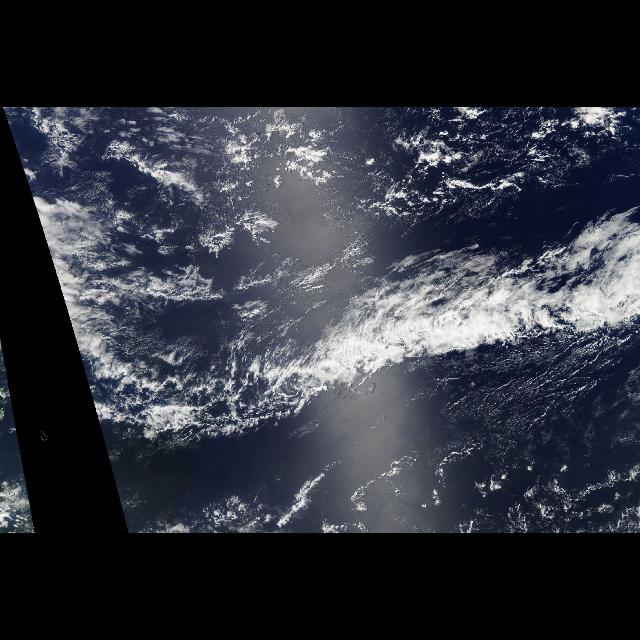Fish: (118, 226, 640, 456)
Sugar: (410, 332, 640, 476), (204, 208, 360, 344)
